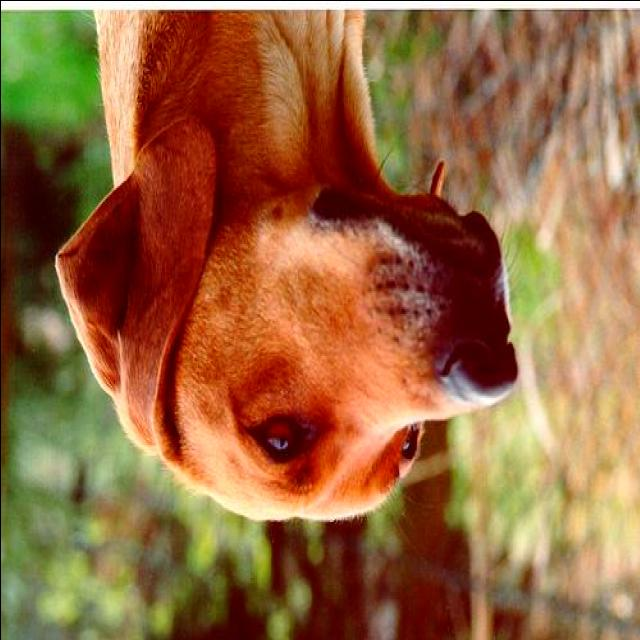rhodesian_ridgeback: (48, 7, 520, 525)
